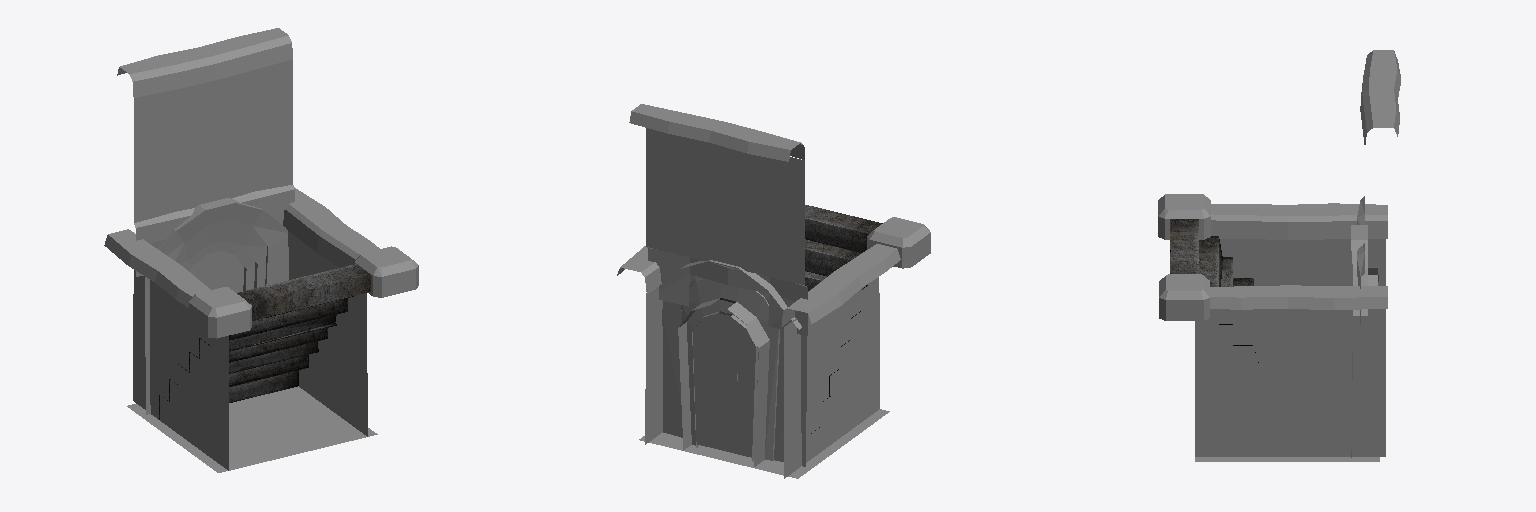
3 renders of one model, left to right at view 1: azimuth 30°, elevation 25°; view 2: azimuth 150°, elevation 25°; view 3: azimuth 270°, elevation 25°, orthographic.
Parts seen in each view (by area): view 1: Grim_Bear_Stairs_Down; view 2: Grim_Bear_Stairs_Down; view 3: Grim_Bear_Stairs_Down.
Boxes of the visible parts, x1=… form: Grim_Bear_Stairs_Down: x1=104, y1=28, x2=418, y2=472; Grim_Bear_Stairs_Down: x1=617, y1=104, x2=930, y2=478; Grim_Bear_Stairs_Down: x1=1158, y1=50, x2=1400, y2=461.
Bounding box in the file's own units: 338 × 512 × 338.
6 materials, 1 textured.